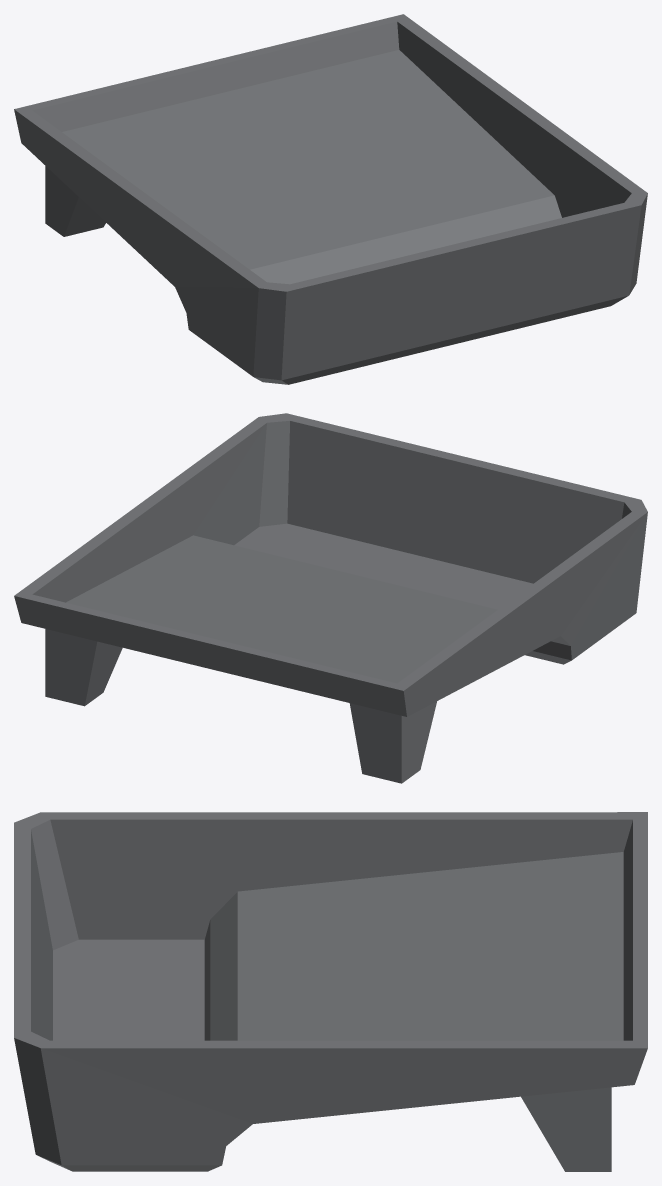
Rendered from SM_Prop_Paint_Tray_01.fbx.
The picture shows the model from 3 angles, top to bottom: view 1: azimuth 30°, elevation 25°; view 2: azimuth 150°, elevation 25°; view 3: azimuth 270°, elevation 25°; orthographic projection. The views are drawn at different scales.
Visible parts, largest first — view 1: SM_Prop_Paint_Tray_01; view 2: SM_Prop_Paint_Tray_01; view 3: SM_Prop_Paint_Tray_01.
Part boxes in pixels (left/top/right/bottom): SM_Prop_Paint_Tray_01: left=14, top=14, right=647, bottom=384; SM_Prop_Paint_Tray_01: left=14, top=413, right=647, bottom=783; SM_Prop_Paint_Tray_01: left=14, top=812, right=647, bottom=1171.
Bounding box in the file's own units: 48.29 × 12.73 × 54.79.
